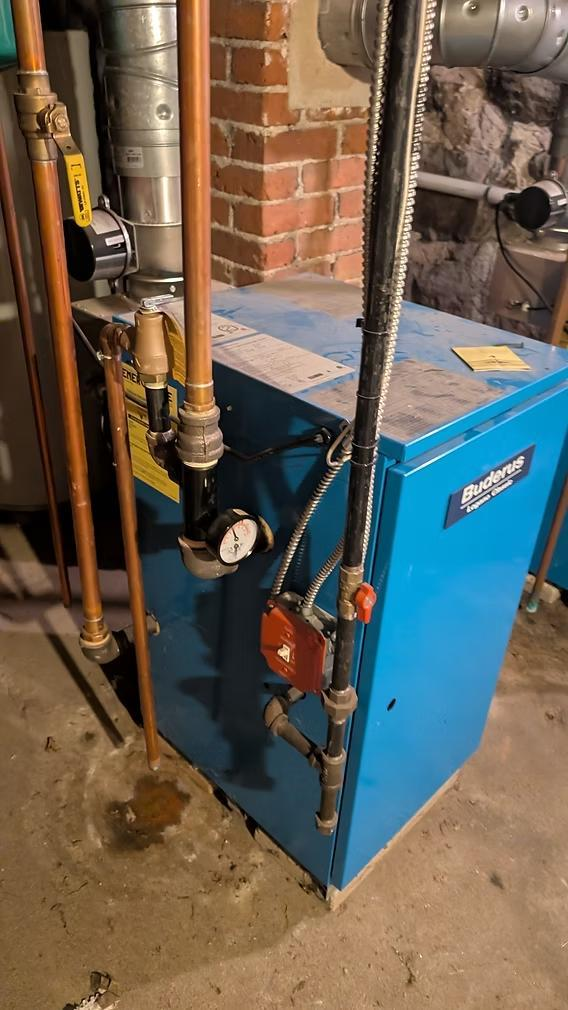water accumulation: (95, 772, 198, 852)
